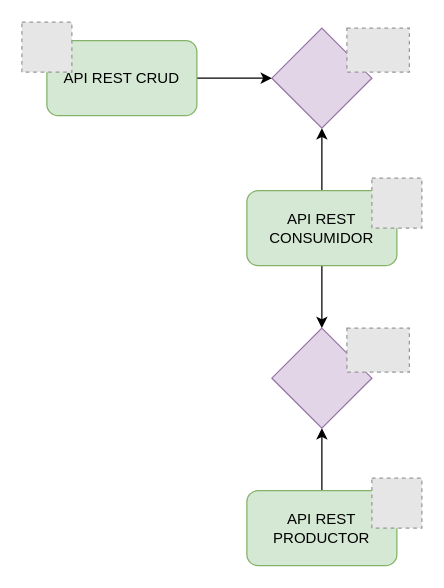
Some shapes in this 444 by 588 pixel diagram are drawn without their labels. Grey dashed boxes stand in for pictures. The box of each missing label's shape, as (x1, y1, x2, y2) in pixels:
KAFKA: (271, 327, 372, 428)
MYSQL: (271, 27, 372, 128)
